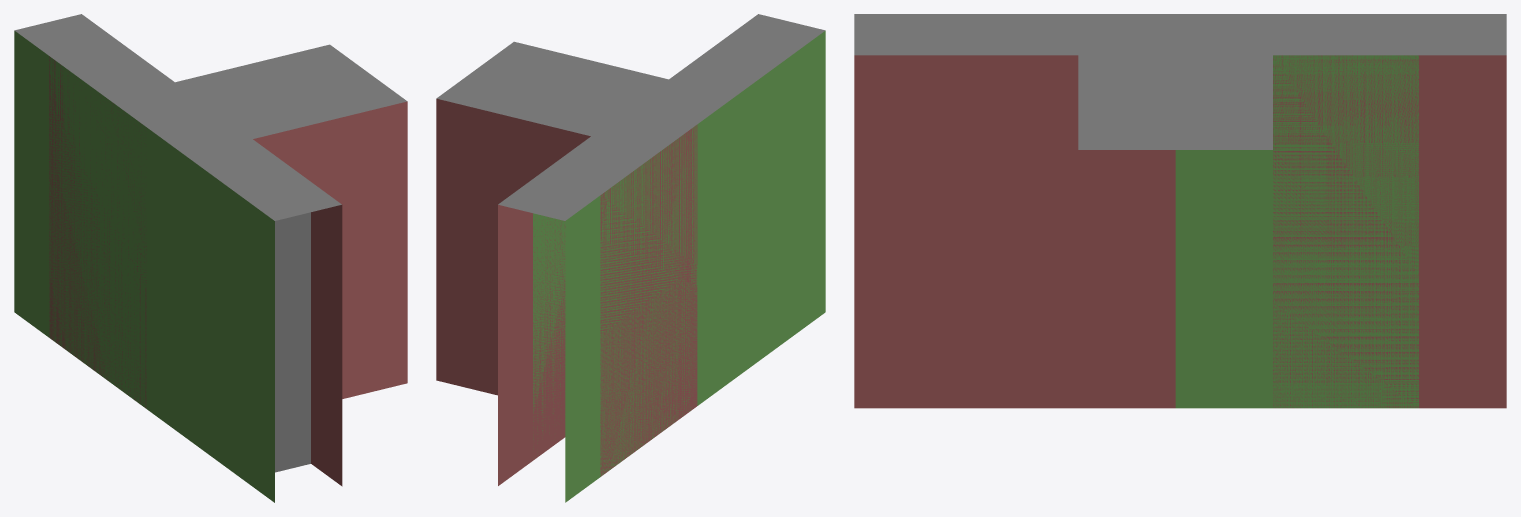
File: gb_00_walls.fbx
3 views of the same model, side by side, from view 1: azimuth 30°, elevation 25°; view 2: azimuth 150°, elevation 25°; view 3: azimuth 270°, elevation 25° (orthographic). The views are drawn at different scales.
Visible parts, largest first — view 1: wall_02_geo, wall_03_geo, wall_00_geo, wall_01_geo; view 2: wall_03_geo, wall_01_geo, wall_00_geo, wall_02_geo; view 3: wall_00_geo, wall_01_geo, wall_03_geo, wall_02_geo.
Boxes of the visible parts, x1,y1,x2,y2 form: wall_02_geo: (148,73,407,502); wall_03_geo: (14,14,368,408); wall_00_geo: (146,111,310,479); wall_01_geo: (49,39,310,407); wall_03_geo: (436,37,765,502); wall_01_geo: (533,37,793,476); wall_00_geo: (630,38,794,405); wall_02_geo: (475,14,825,334); wall_00_geo: (932,14,1175,408); wall_01_geo: (932,14,1418,408); wall_03_geo: (932,14,1506,408); wall_02_geo: (854,14,1175,408).
Bounding box in the file's own units: 165 × 200 × 335.
